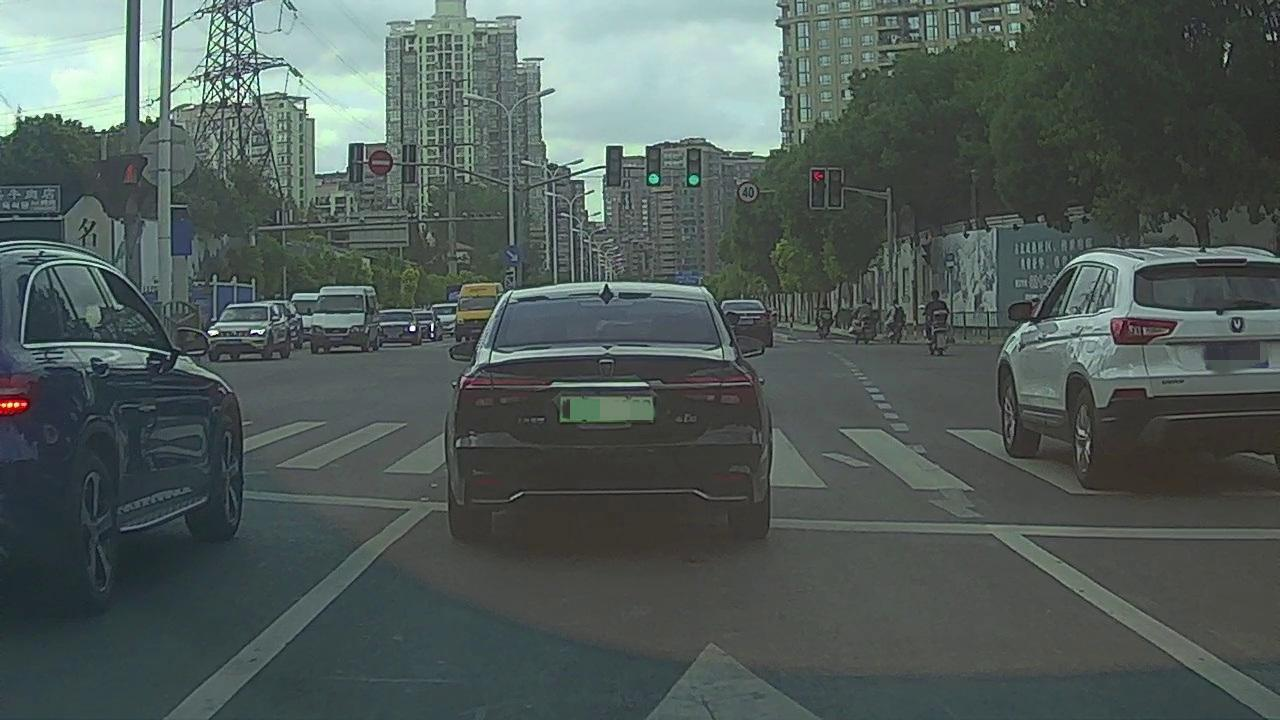traffic_light: (827, 165, 843, 209), (607, 146, 621, 186), (812, 168, 826, 208), (648, 147, 661, 185), (688, 149, 700, 187)
